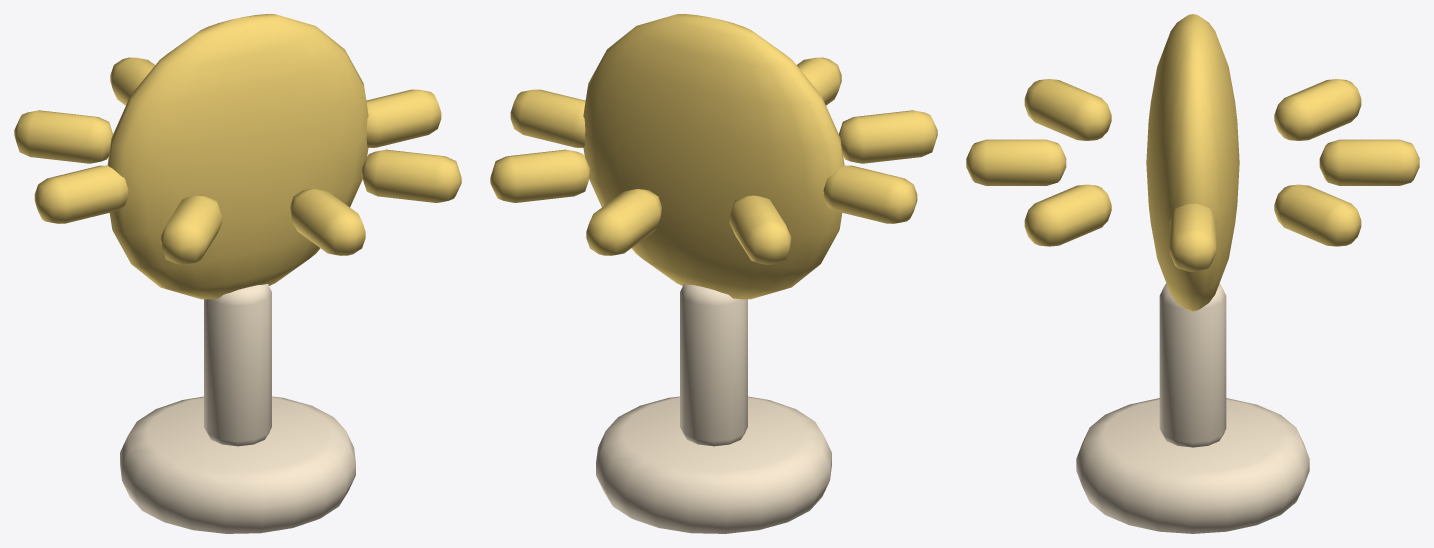
File: ornament_c.glb
3 views of the same model, side by side, from view 1: azimuth 30°, elevation 25°; view 2: azimuth 150°, elevation 25°; view 3: azimuth 270°, elevation 25° (orthographic).
Visible parts, largest first — view 1: body; view 2: body; view 3: body.
Part boxes in pixels (box(x1,y1,x2,y2)): body: box(14, 14, 461, 533); body: box(490, 14, 937, 533); body: box(966, 14, 1419, 533).
Size of the model in its own units: 0.136 by 0.155 by 0.136.
